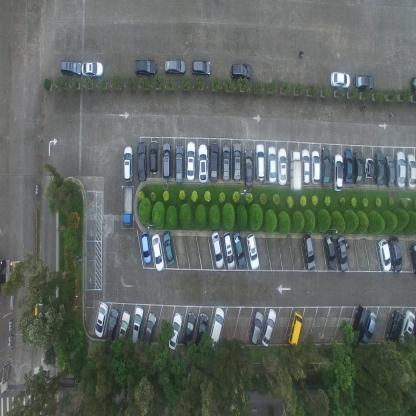car: (350, 304, 370, 347), (385, 310, 404, 349), (208, 307, 224, 351), (286, 311, 304, 347), (130, 303, 144, 349), (261, 307, 277, 347), (194, 311, 209, 353), (387, 234, 403, 273), (398, 308, 414, 346), (167, 312, 183, 350), (323, 230, 337, 272), (142, 310, 156, 352), (116, 310, 130, 352), (361, 310, 377, 346), (232, 229, 246, 270), (94, 300, 109, 338), (210, 230, 224, 270), (105, 306, 119, 346), (245, 233, 260, 270), (249, 310, 264, 346), (122, 186, 134, 230), (223, 231, 236, 271), (290, 149, 302, 192), (151, 233, 164, 272), (183, 310, 196, 348), (377, 238, 391, 273), (320, 145, 331, 189), (302, 233, 315, 270), (122, 144, 134, 184), (133, 58, 158, 77), (136, 142, 147, 183), (336, 235, 348, 272), (60, 58, 82, 78), (230, 62, 252, 82), (330, 68, 350, 90), (332, 152, 343, 192), (300, 147, 311, 187), (81, 60, 104, 79), (174, 142, 184, 185), (395, 150, 406, 189), (232, 140, 242, 182), (209, 141, 219, 183), (198, 142, 208, 184), (140, 230, 152, 265), (164, 58, 186, 77), (353, 148, 364, 186), (186, 140, 196, 181), (191, 58, 211, 78), (277, 147, 287, 187), (353, 73, 374, 92), (374, 150, 385, 186), (255, 143, 265, 182), (310, 149, 321, 184), (163, 231, 174, 266), (406, 152, 416, 190), (221, 143, 231, 181), (148, 138, 158, 176), (384, 154, 395, 188), (343, 149, 353, 186), (162, 139, 171, 180), (267, 144, 276, 184), (244, 148, 253, 188), (408, 242, 416, 276), (364, 156, 374, 179), (410, 75, 416, 93)
